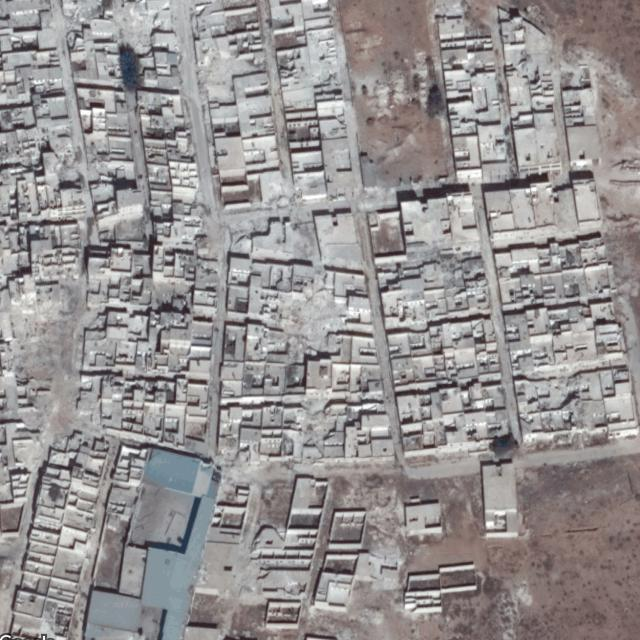damaged_building: (3, 276, 83, 438), (277, 289, 349, 355)
